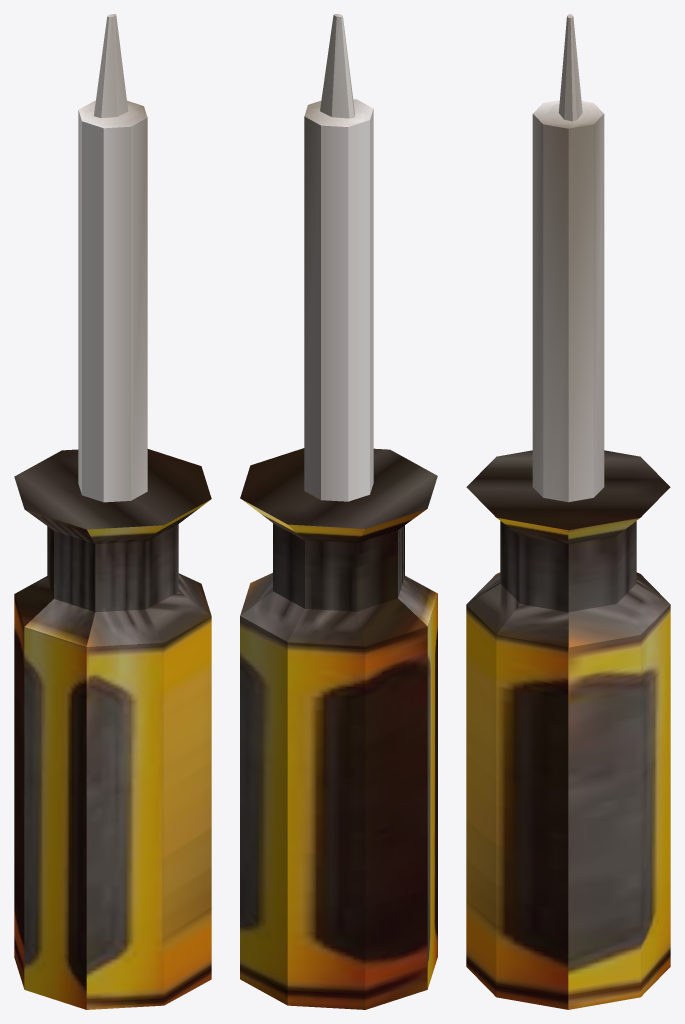
The model's file is SCREWDRIVER.glb.
3 renders of one model, left to right at view 1: azimuth 30°, elevation 25°; view 2: azimuth 150°, elevation 25°; view 3: azimuth 270°, elevation 25°, orthographic.
Parts seen in each view (by area): view 1: Cylinder; view 2: Cylinder; view 3: Cylinder.
Part boxes in pixels (bbox=[...]): Cylinder: bbox=[14, 14, 211, 1009]; Cylinder: bbox=[240, 14, 437, 1009]; Cylinder: bbox=[466, 14, 670, 1009].
Size of the model in its own units: 0.2561 by 1.32 by 0.2561.
Materials: 1 (1 with a texture image).
